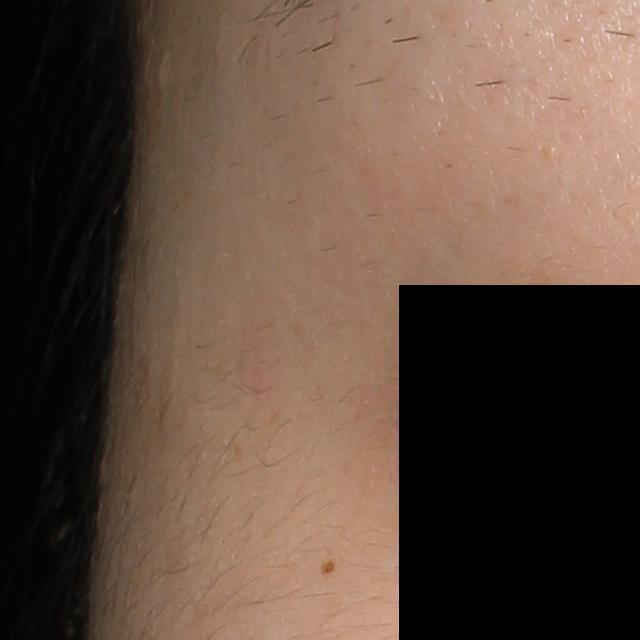nevus: (317, 557, 338, 578)
